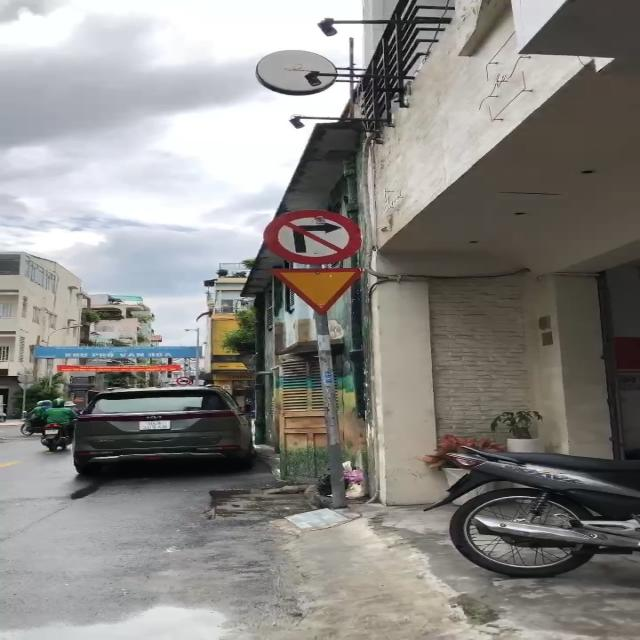Bien bao cam re phai: (263, 210, 363, 266)
Bien bao giao nhau voi duong uu tien: (259, 264, 377, 317)
